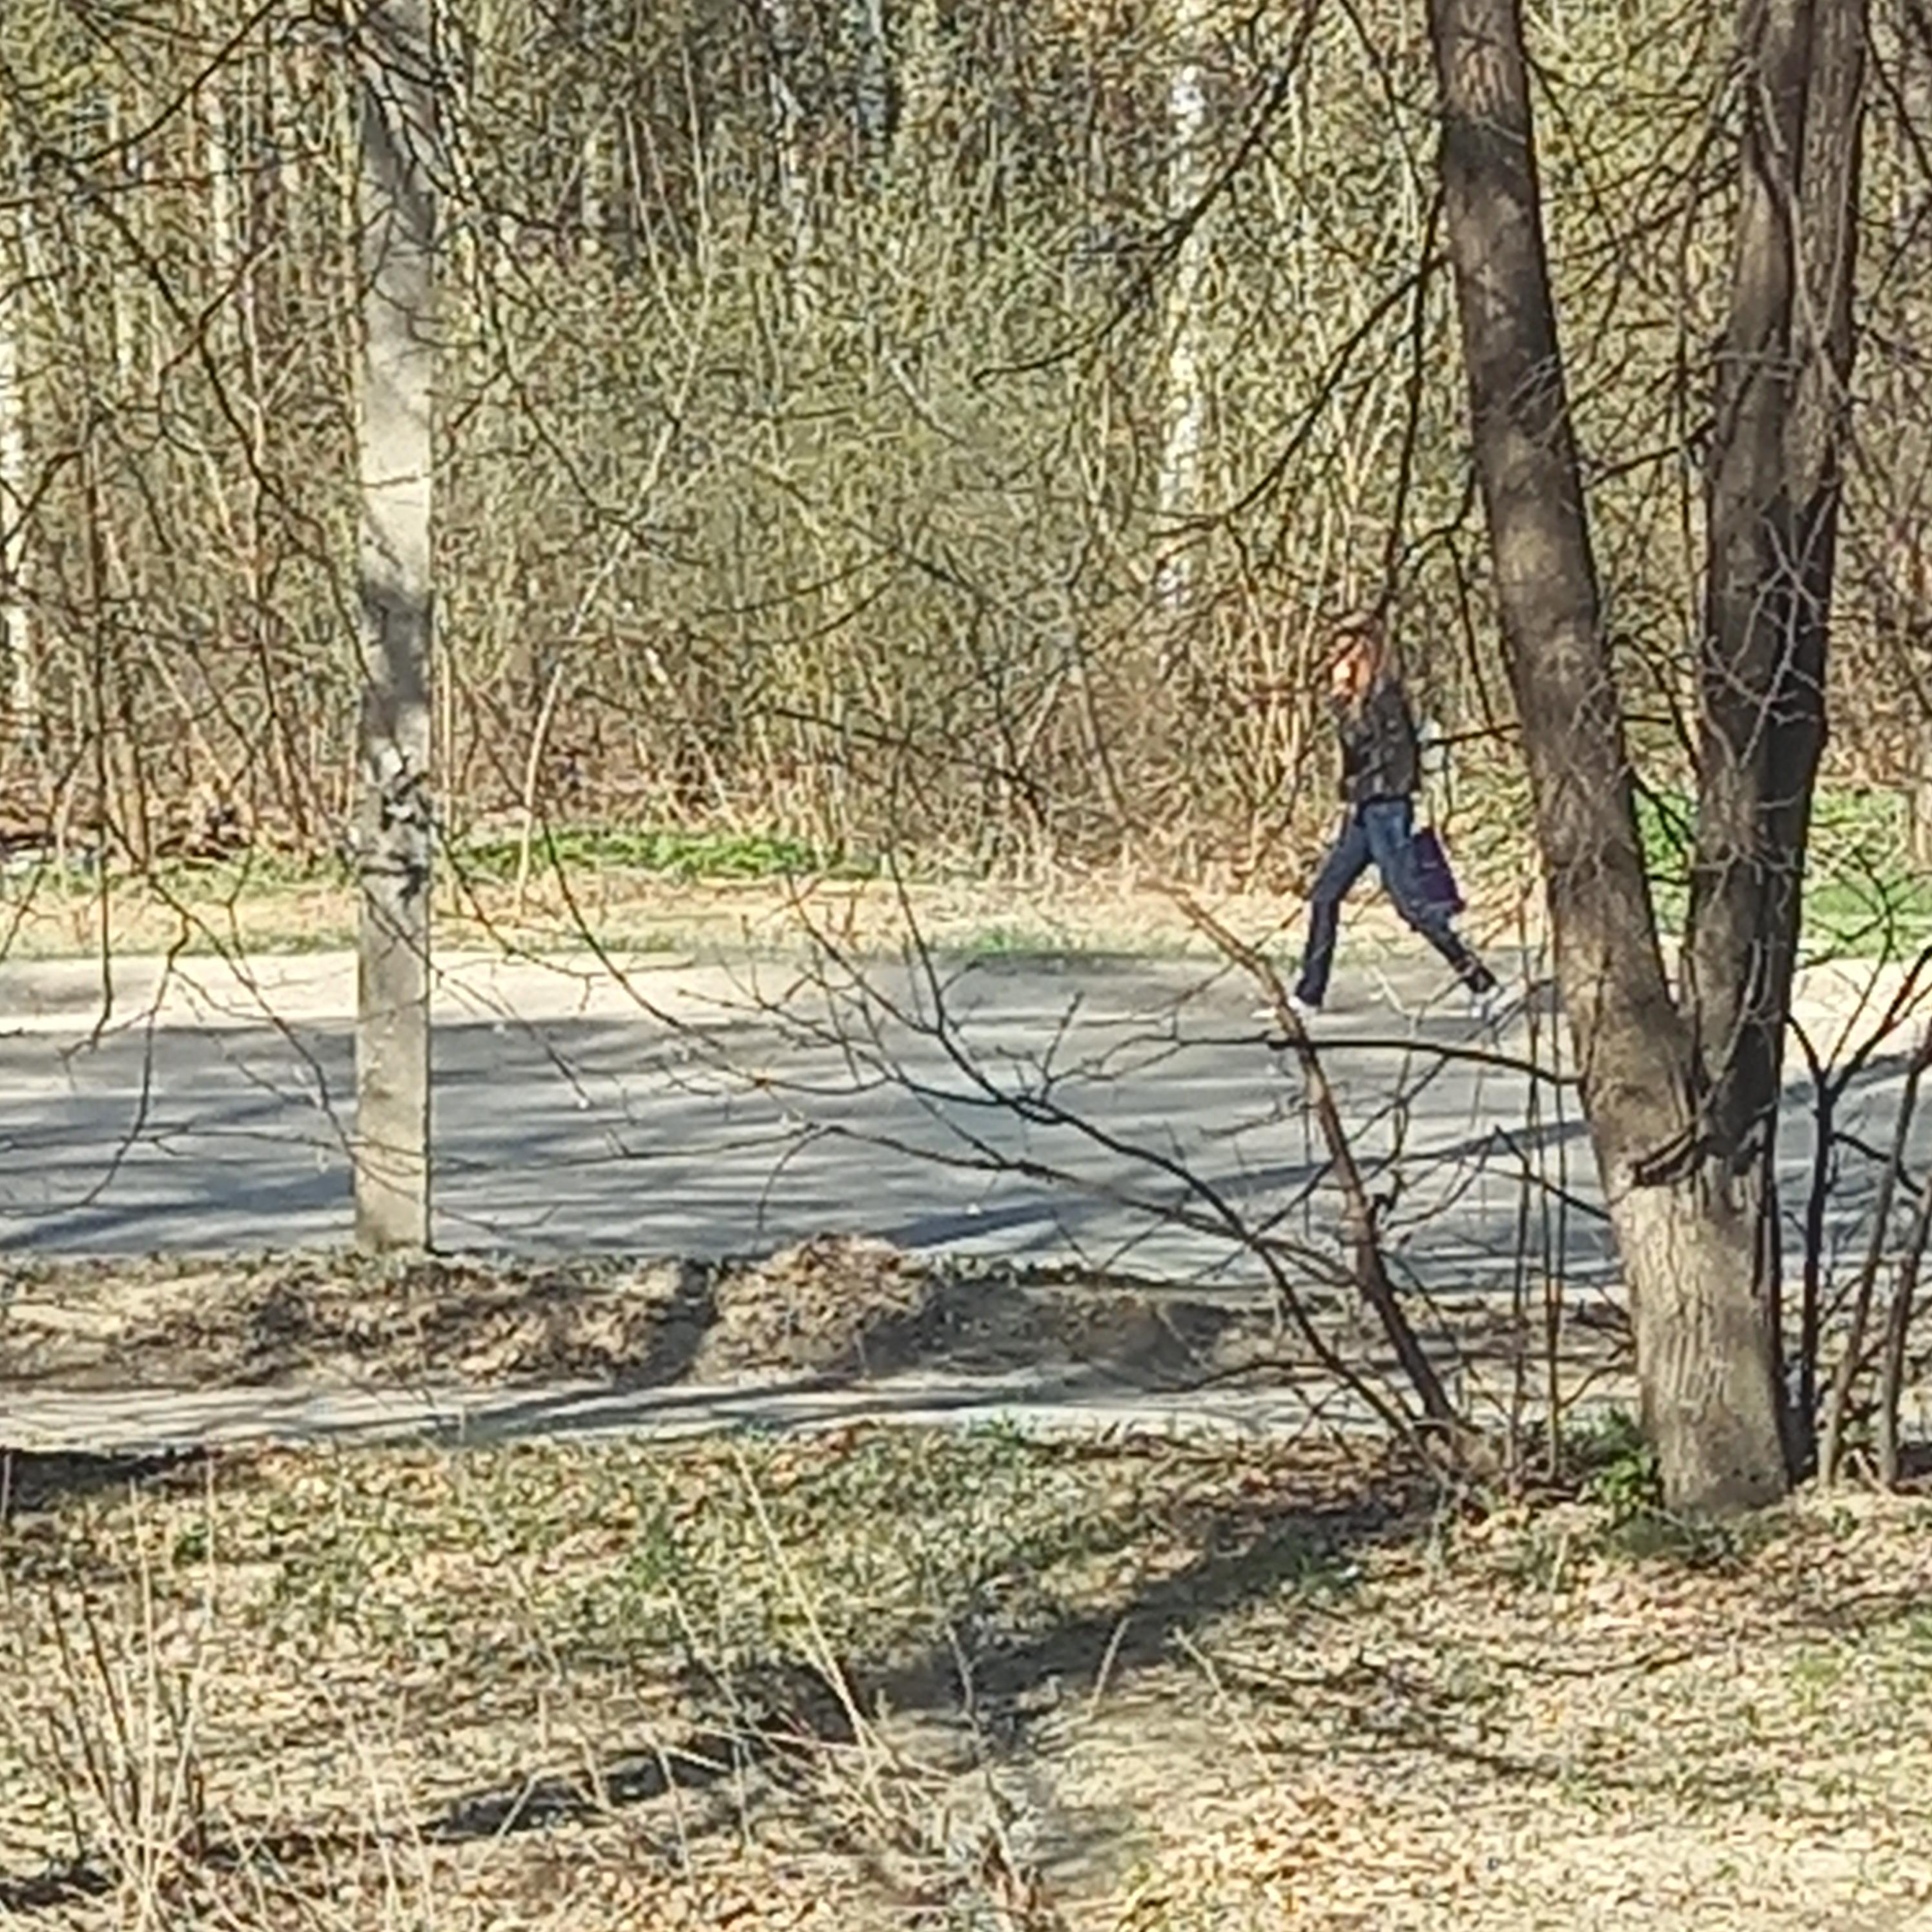no -hi-vis jacket: (1336, 694, 1419, 801)
